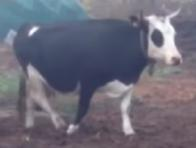cow: (13, 7, 182, 138)
